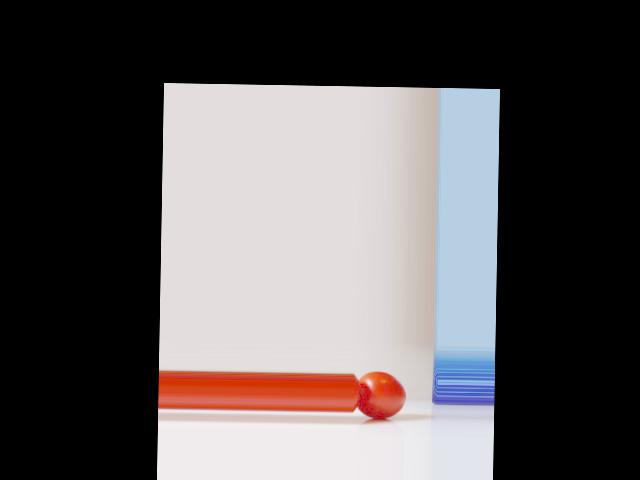tomato: (358, 371, 406, 419)
